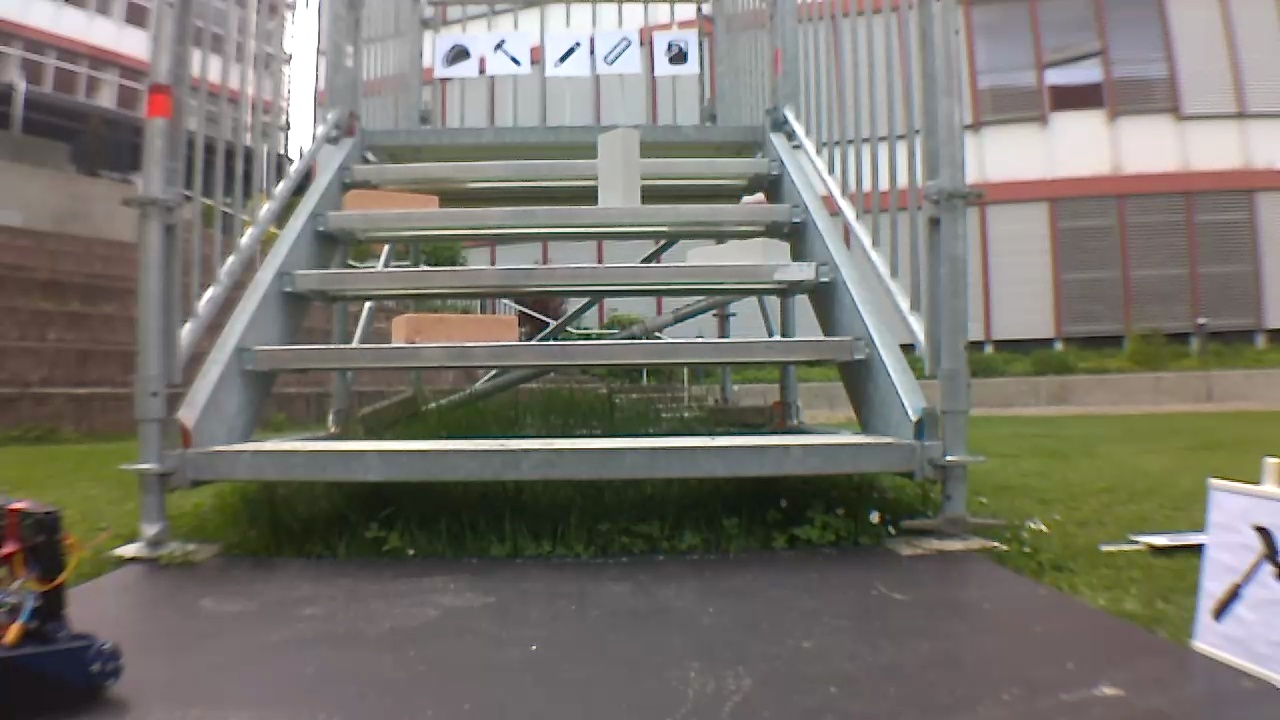brick: (393, 313, 516, 343), (599, 128, 640, 206), (687, 237, 788, 264), (337, 189, 437, 210)
bucket: (658, 33, 692, 71)
edge: (189, 439, 917, 480), (241, 338, 873, 364), (276, 261, 830, 285), (316, 203, 805, 224), (340, 157, 781, 179), (363, 123, 763, 142)
hammer: (1206, 515, 1280, 637), (490, 39, 525, 69)
pencil: (549, 36, 584, 72)
ruler: (599, 35, 632, 68)
stairs: (130, 3, 986, 549)
steps: (182, 116, 928, 490)
taco: (438, 37, 473, 72)
